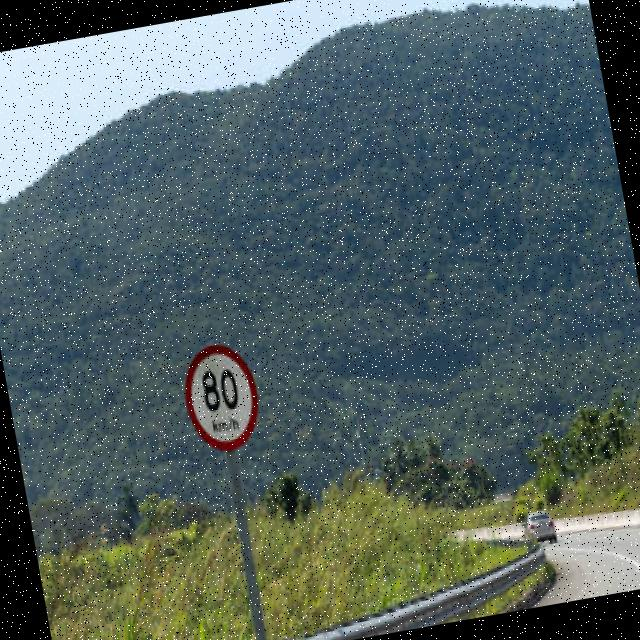speed_limit_80: (173, 328, 271, 467)
